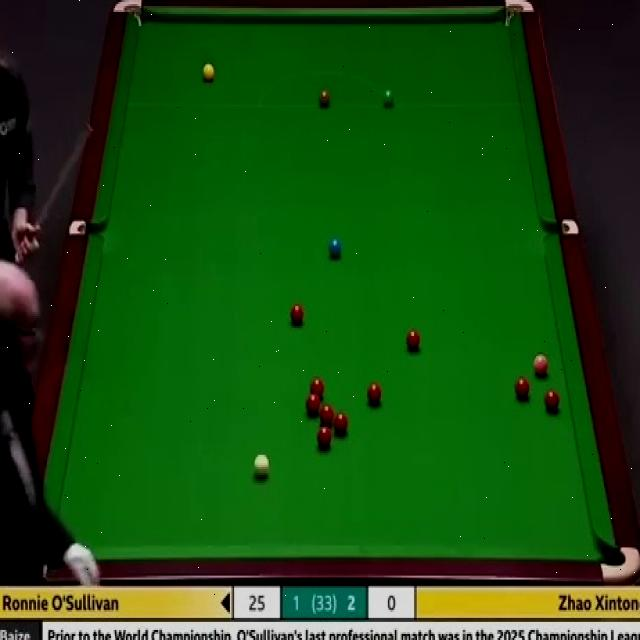blue-ball: (329, 236, 342, 259)
brown-ball: (318, 90, 332, 108)
green-ball: (381, 87, 396, 109)
pink-ball: (532, 354, 549, 376)
red-ball: (366, 381, 382, 408), (288, 300, 304, 326), (544, 389, 562, 412), (316, 427, 331, 452), (405, 328, 421, 351), (514, 376, 529, 400), (320, 404, 334, 428), (336, 411, 348, 439), (308, 378, 325, 397), (306, 396, 320, 417)
white-ball: (252, 452, 272, 478)
yellow-ball: (202, 62, 215, 84)
